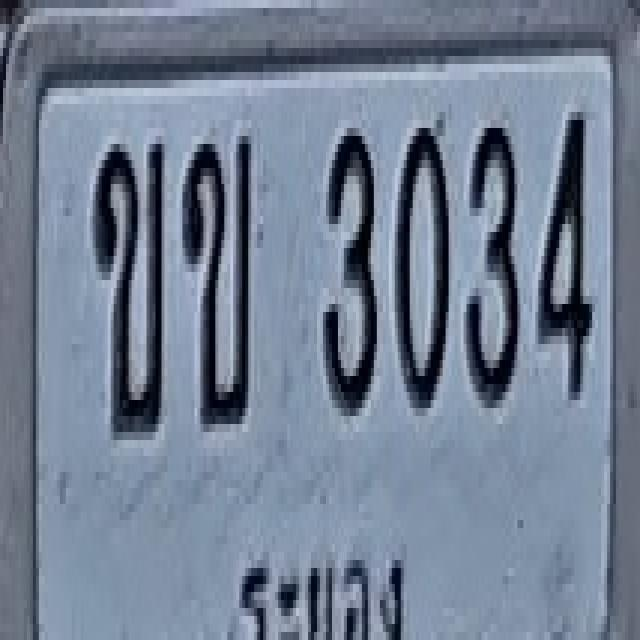-: (92, 136, 164, 432), (182, 128, 252, 424)
0: (394, 120, 448, 408)
3: (323, 124, 377, 412), (465, 116, 519, 404)
4: (536, 104, 590, 400)
RYG: (240, 536, 413, 640)
